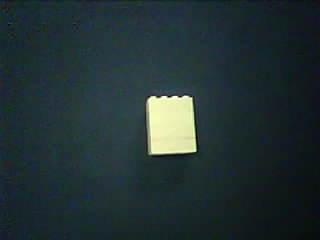lego: (143, 93, 198, 157)
